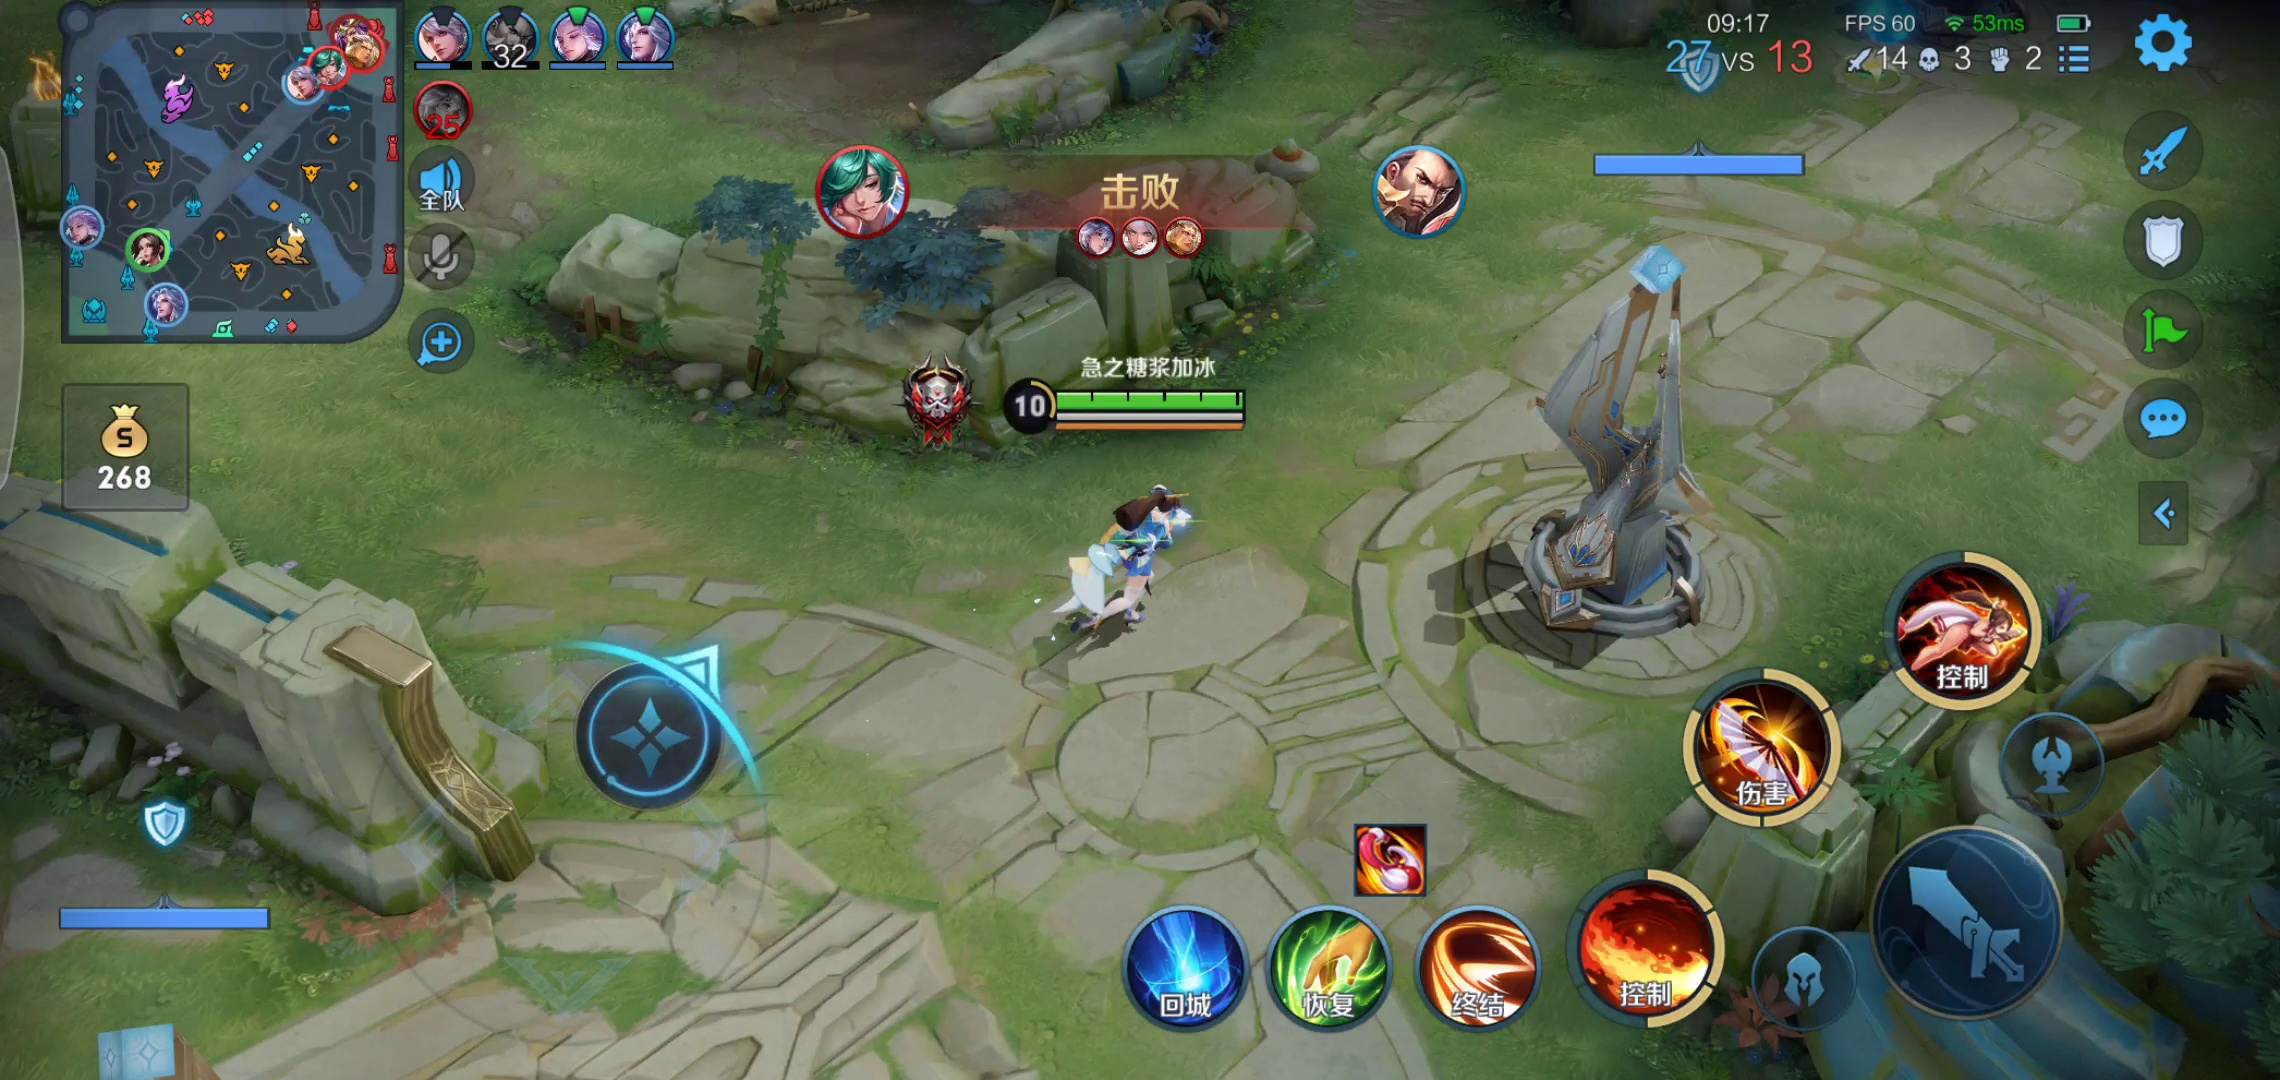hero: (1050, 475, 1203, 638)
tower: (1485, 246, 1736, 640), (51, 970, 247, 1080)
